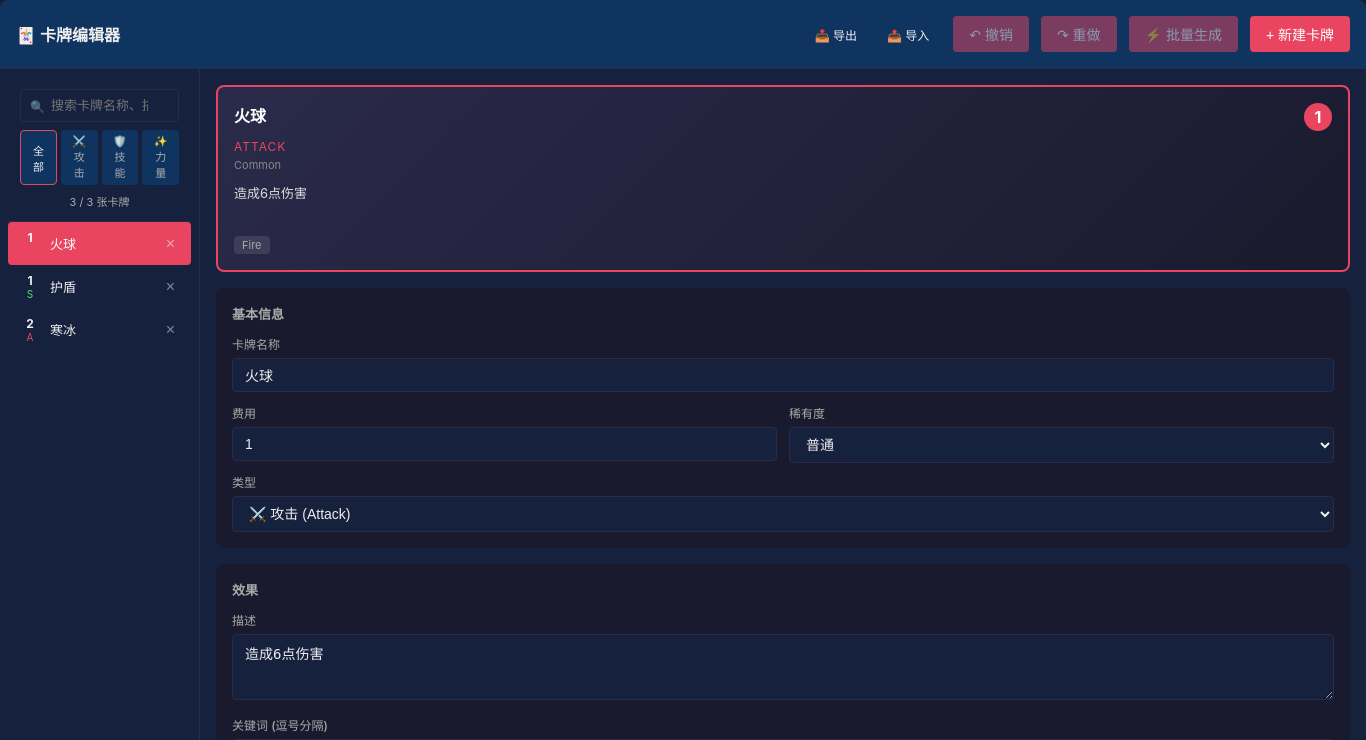
Test: CardEditor 过滤 + 原始索引 › 搜索 + 类型过滤组合
In the field with placeholder "搜索卡牌名称、描述或关键词...": (100,106) [20,89,179,122], type "火"
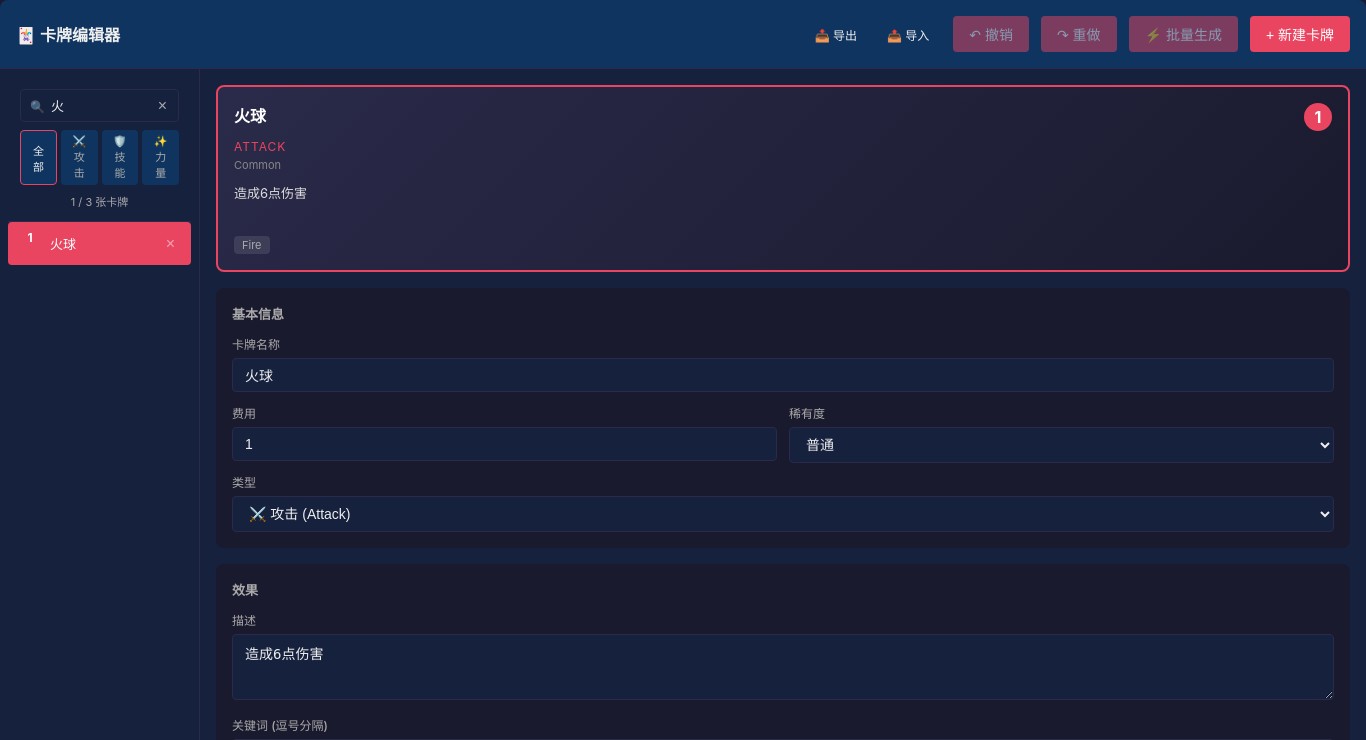
Click the button "🛡️ 技能": (120,158) [102,130,138,185]
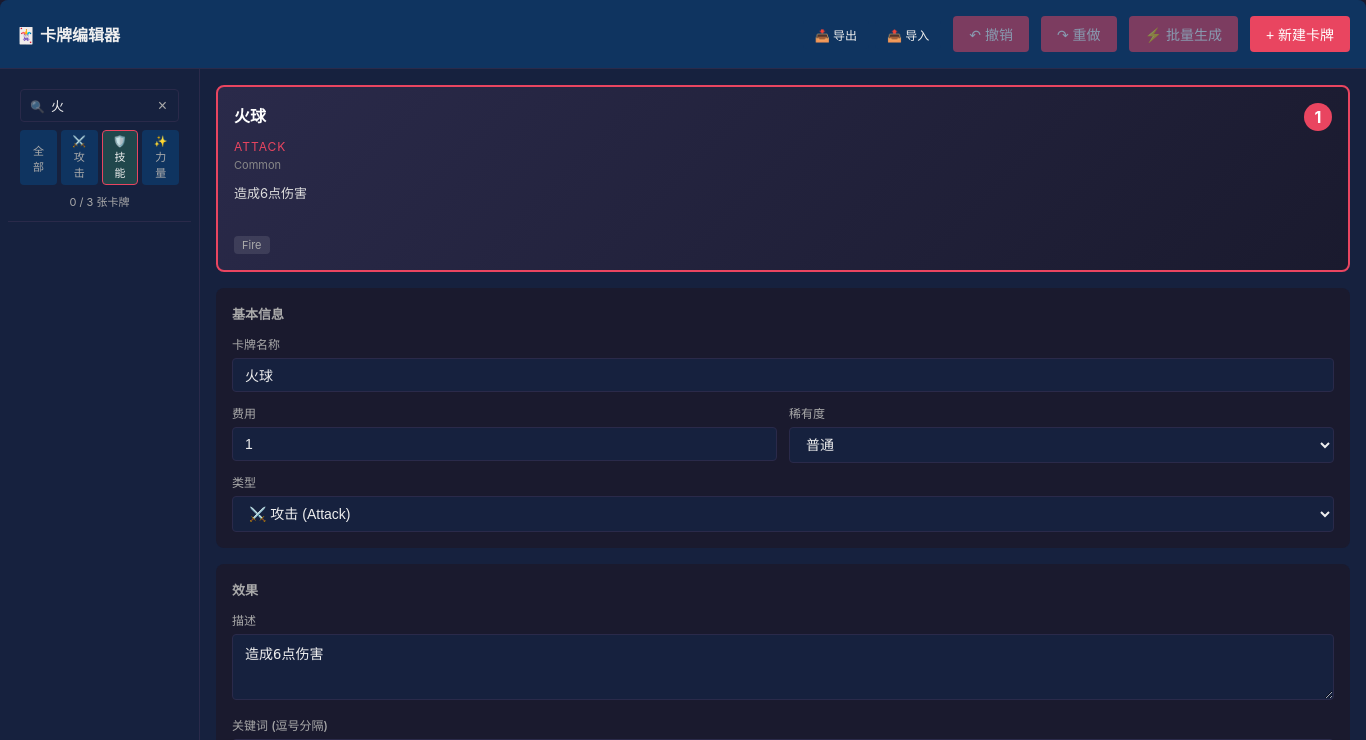
Expected: the text "0 / 3 张卡牌" is shown, [70,195,130,209]
